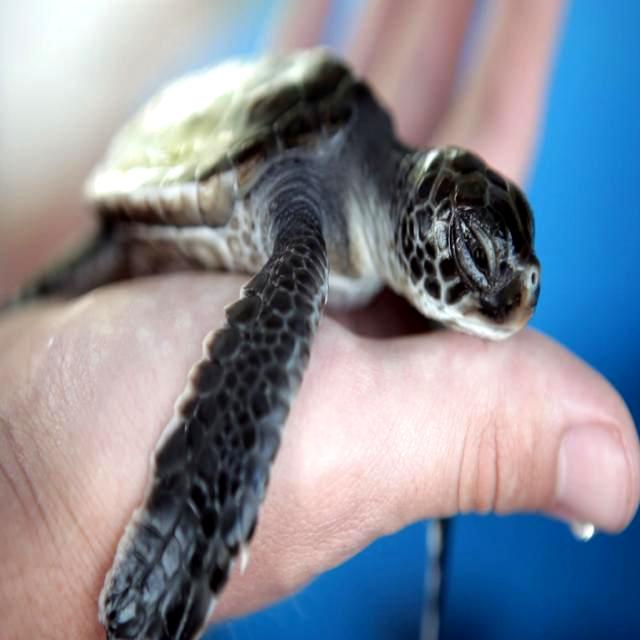Sea turtle: (0, 37, 540, 639)
